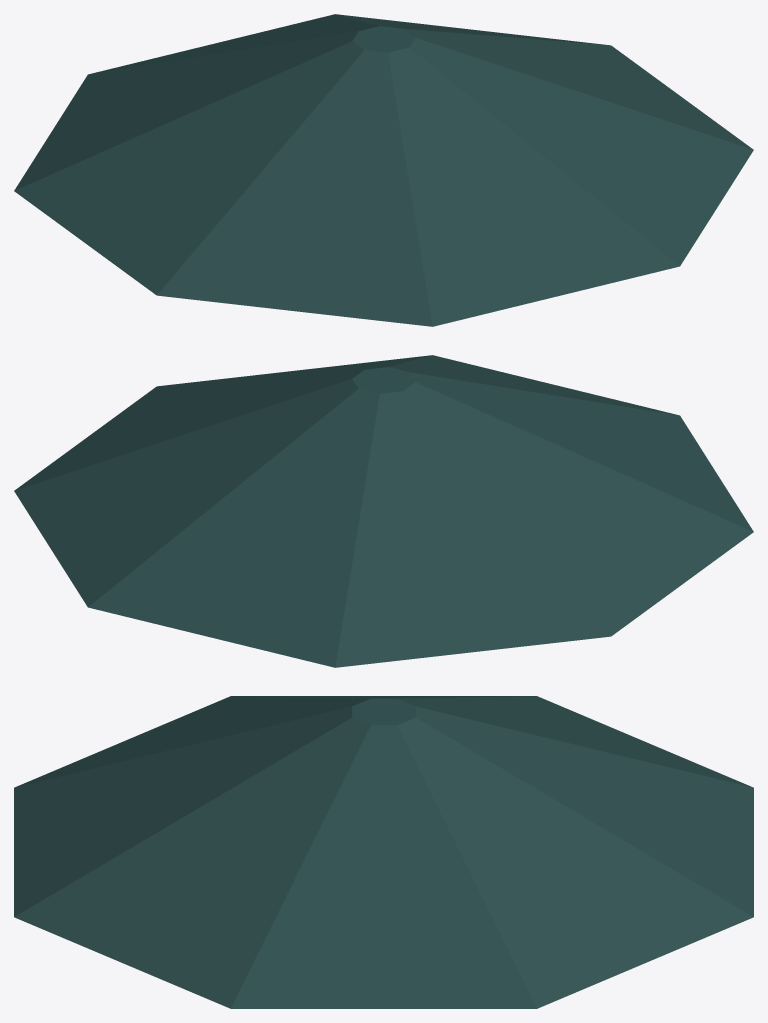
The model's file is Asian_Building_Temple_Pagoda_Roof_01.FBX.
The picture shows the model from 3 angles, top to bottom: view 1: azimuth 30°, elevation 25°; view 2: azimuth 150°, elevation 25°; view 3: azimuth 270°, elevation 25°; orthographic projection. The views are drawn at different scales.
Visible parts, largest first — view 1: Asian_Building_Temple_Pagoda_Roof_01; view 2: Asian_Building_Temple_Pagoda_Roof_01; view 3: Asian_Building_Temple_Pagoda_Roof_01.
Part boxes in pixels (<box>): Asian_Building_Temple_Pagoda_Roof_01: <box>14,14,753,326</box>; Asian_Building_Temple_Pagoda_Roof_01: <box>14,355,753,667</box>; Asian_Building_Temple_Pagoda_Roof_01: <box>14,696,753,1008</box>.
Bounding box in the file's own units: 12475 × 2615 × 12475.
